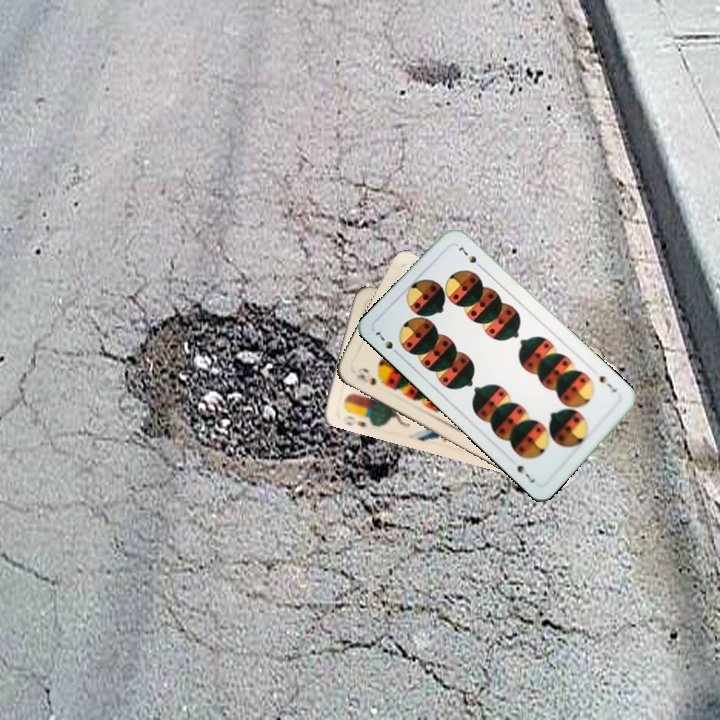EO: (339, 411, 369, 430)
S10: (351, 370, 379, 388)
S7: (371, 328, 403, 359), (595, 371, 620, 395)
